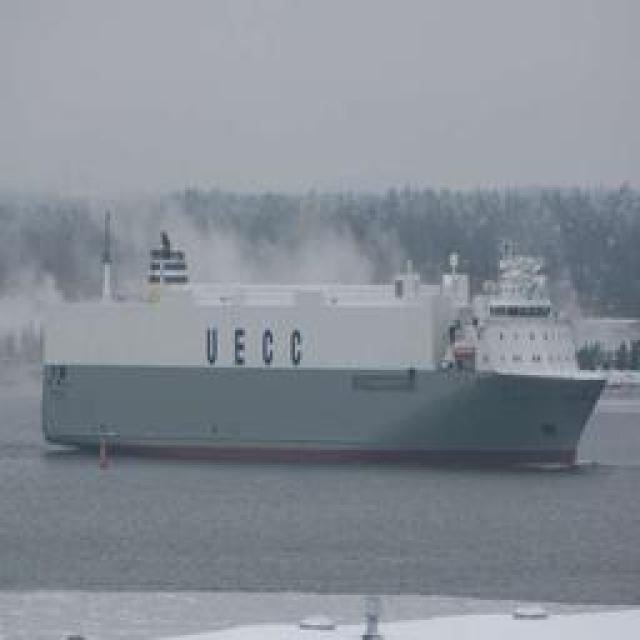Ship: (36, 274, 619, 462)
